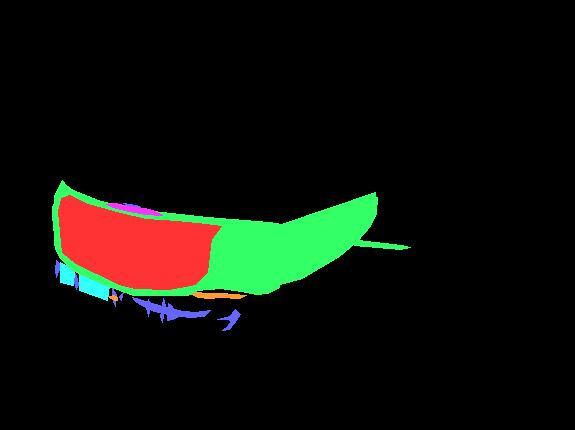Broken part: (52, 180, 375, 295), (216, 197, 377, 288), (354, 240, 410, 249)
Dent: (106, 203, 162, 215)
Flaking: (79, 273, 109, 300), (60, 262, 74, 285)
Missing part: (58, 195, 221, 289)
Paint chip: (186, 286, 246, 298), (109, 295, 117, 300)
Scratch: (132, 297, 210, 317), (217, 309, 240, 330), (167, 303, 177, 320), (160, 298, 165, 322), (73, 270, 78, 289), (112, 288, 116, 306), (146, 299, 150, 316), (55, 260, 59, 277), (123, 203, 140, 207), (119, 292, 123, 300)
